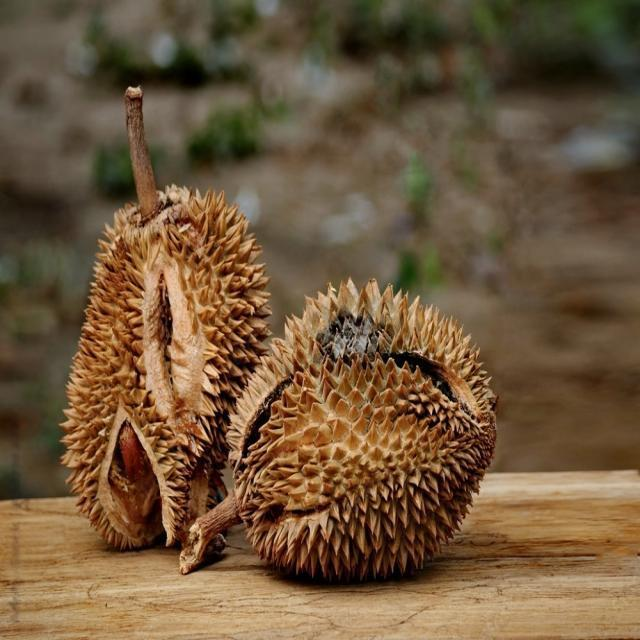defective: (229, 275, 501, 595), (61, 182, 271, 545)
